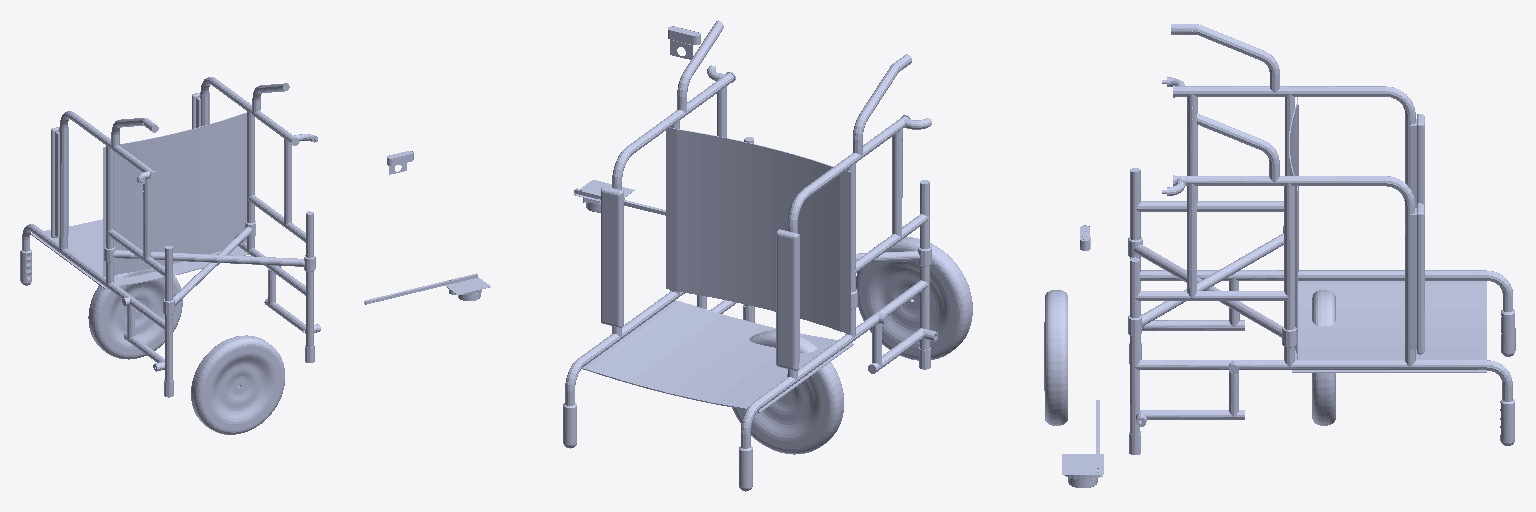
The robot description file, URDF, robot "wheelchair":
<?xml version="1.0" encoding="utf-8"?>

<robot name="wheelchair">

  <!-- Your robot description here -->
  <link name="base_link">
    <!-- Define your link properties -->
    <visual>
      <!-- Define visual properties -->
      <origin xyz="0 0 0" rpy="0 0 0"/> <!-- This is the original position and orientation -->
      <!-- Other visual properties -->
    </visual>
  </link>


  <link name="chassis">
    <inertial>
      <origin xyz="-0.14238 0.06173 -0.10504" rpy="0 0 0" />
      <mass value="9.6593" />
      <inertia ixx="0.35079" ixy="-0.0041582" ixz="4.762E-05" iyy="0.30855" iyz="-1.6408E-05" izz="0.56011" />
    </inertial>
    <visual>
      <origin xyz="0 0 0" rpy="0 0 0" />
      <geometry>
        <mesh filename="package://wheelchair_description/meshes/base_link.STL" />
      </geometry>
      <material name="">
        <color rgba="0.79216 0.81961 0.93333 1" />
      </material>
    </visual>
    <collision>
      <origin xyz="0 0 0" rpy="0 0 0" />
      <geometry>
        <mesh filename="package://wheelchair_description/meshes/base_link.STL" />
      </geometry>
    </collision>
  </link>

  <joint name="connector" type="fixed">
    <!-- Define your joint properties -->
    <origin xyz="0 0 0" rpy="1.57 0 3.14"/> <!-- This is the original position and orientation of the joint -->
    <!-- Other joint properties -->
    <parent link="base_link"/>
    <child link="chassis"/>
  </joint>

  <link name="left_wheel">
    <inertial>
      <origin xyz="5.5511E-16 -1.9429E-16 -0.016" rpy="0 0 0" />
      <mass value="3.5068" />
      <inertia ixx="0.025596" ixy="-1.1778E-18" ixz="-1.814E-19" iyy="0.025596" iyz="7.7958E-19" izz="0.049823" />
    </inertial>
    <visual>
      <origin xyz="0 0 0" rpy="0 0 0" />
      <geometry>
        <mesh filename="package://wheelchair_description/meshes/left_wheel.STL" />
      </geometry>
      <material name="">
        <color rgba="0.79216 0.81961 0.93333 1" />
      </material>
    </visual>
    <collision>
      <origin xyz="0 0 0" rpy="0 0 0" />
      <geometry>
        <mesh filename="package://wheelchair_description/meshes/left_wheel.STL" />
      </geometry>
    </collision>
  </link>

  <joint name="wheel1" type="continuous">
    <origin xyz="0.21536 -0.23488 0.21222" rpy="0 0 0" />
    <parent link="chassis" />
    <child link="left_wheel" />
    <axis xyz="0 0 1" />
  </joint>

  <link name="right_wheel">
    <inertial>
      <origin xyz="-4.4409E-16 8.3267E-17 -0.016" rpy="0 0 0" />
      <mass value="3.5068" />
      <inertia ixx="0.025596" ixy="1.7094E-18" ixz="3.1551E-19" iyy="0.025596" iyz="3.173E-19" izz="0.049823" />
    </inertial>
    <visual>
      <origin xyz="0 0 0" rpy="0 0 0" />
      <geometry>
        <mesh filename="package://wheelchair_description/meshes/right_wheel.STL" />
      </geometry>
      <material name="">
        <color rgba="0.79216 0.81961 0.93333 1" />
      </material>
    </visual>
    <collision>
      <origin xyz="0 0 0" rpy="0 0 0" />
      <geometry>
        <mesh filename="package://wheelchair_description/meshes/right_wheel.STL" />
      </geometry>
    </collision>
  </link>

  <joint name="wheel2" type="continuous">
    <origin xyz="0.21536 -0.23488 -0.41978" rpy="3.1416 0 3.1416" />
    <parent link="chassis" />
    <child link="right_wheel" />
    <axis xyz="0 0 -1" />
  </joint>

  <link name="depth_camera">
    <inertial>
      <origin xyz="5.1164E-06 -0.012641 0.031883" rpy="0 0 0" />
      <mass value="0.053869" />
      <inertia ixx="5.7339E-06" ixy="2.8393E-11" ixz="5.9589E-09" iyy="3.5154E-05" iyz="1.7675E-07" izz="3.4905E-05" />
    </inertial>
    <visual>
      <origin xyz="0 0 0" rpy="0 0 0" />
      <geometry>
        <mesh filename="package://wheelchair_description/meshes/depth_camera.STL" />
      </geometry>
      <material name="">
        <color rgba="0.79216 0.81961 0.93333 1" />
      </material>
    </visual>
    <collision>
      <origin xyz="0 0 0" rpy="0 0 0" />
      <geometry>
        <mesh filename="package://wheelchair_description/meshes/depth_camera.STL" />
      </geometry>
    </collision>
  </link>

  <joint name="camera" type="fixed">
    <origin xyz="-0.39931 0.33074 -0.35378" rpy="1.5708 0 -3.1416" />
    <parent link="chassis" />
    <child link="depth_camera" />
    <axis xyz="0 0 0" />
  </joint>

  <link name="lidar">
    <inertial>
      <origin xyz="-0.0031142 0.017894 -0.0072225" rpy="0 0 0" />
      <mass value="0.13016" />
      <inertia ixx="0.00054372" ixy="6.6921E-05" ixz="-1.1138E-05" iyy="8.3702E-05" iyz="5.9592E-05" izz="0.00057444" />
    </inertial>
    <visual>
      <origin xyz="0 0 0" rpy="0 0 0" />
      <geometry>
        <mesh filename="package://wheelchair_description/meshes/lidar.STL" />
      </geometry>
      <material name="">
        <color rgba="0.79216 0.81961 0.93333 1" />
      </material>
    </visual>
    <collision>
      <origin xyz="0 0 0" rpy="0 0 0" />
      <geometry>
        <mesh filename="package://wheelchair_description/meshes/lidar.STL" />
      </geometry>
    </collision>
  </link>

  <joint name="lidar_joint" type="fixed">
    <origin xyz="-0.64132 -0.14701 -0.37178" rpy="1.5714 1.5708 0" />
    <parent link="chassis" />
    <child link="lidar" />
    <axis xyz="0 0 0" />
  </joint>

  <!-- Camera plugin -->
<gazebo reference="depth_camera">
  <sensor name="kinect_camera" type="depth">
    <update_rate>20</update_rate>
    <camera>
      <horizontal_fov>1.047198</horizontal_fov>
      <image>
        <width>1920</width>
        <height>1080</height>
        <format>R8G8B8</format>
      </image>
      <clip>
        <near>0.05</near>
        <far>30</far>
      </clip>
    </camera>
    <plugin name="kinect_controller" filename="libgazebo_ros_openni_kinect.so">
      <baseline>0.2</baseline>
      <alwaysOn>true</alwaysOn>
      <updateRate>1.0</updateRate>
      <cameraName>camera_ir</cameraName>
      <imageTopicName>/camera/color/image_raw</imageTopicName>
      <cameraInfoTopicName>/camera/color/camera_info</cameraInfoTopicName>
      <depthImageTopicName>/camera/depth/image_raw</depthImageTopicName>
      <depthImageInfoTopicName>/camera/depth/camera_info</depthImageInfoTopicName>
      <pointCloudTopicName>/camera/depth/color/points</pointCloudTopicName>
      <frameName>depth_camera</frameName>
      <pointCloudCutoff>0.5</pointCloudCutoff>
      <pointCloudCutoffMax>3.0</pointCloudCutoffMax>
      <distortionK1>0.00000001</distortionK1>
      <distortionK2>0.00000001</distortionK2>
      <distortionK3>0.00000001</distortionK3>
      <distortionT1>0.00000001</distortionT1>
      <distortionT2>0.00000001</distortionT2>
      <CxPrime>0</CxPrime>
      <Cx>0</Cx>
      <Cy>0</Cy>
      <focalLength>0</focalLength>
      <hackBaseline>0</hackBaseline>
    </plugin>
  </sensor>
</gazebo>

 <gazebo reference="lidar">
    <sensor name="head_hokuyo_sensor" type="ray">
      <pose>0 0 0 0 0 0</pose>
      <visualize>true</visualize>
      <update_rate>40</update_rate>
      <ray>
        <scan>
          <horizontal>
            <samples>720</samples>
            <resolution>1</resolution>
            <min_angle>-3.14</min_angle>
            <max_angle>3.14</max_angle>
          </horizontal>
        </scan>
        <range>
          <min>0.2</min>
          <max>10.1</max>
          <resolution>0.01</resolution>
        </range>
        <noise>
          <type>gaussian</type>
          <mean>0.0</mean>
          <stddev>0.02</stddev>
        </noise>
      </ray>
      <plugin filename="libgazebo_ros_laser.so" name="gazebo_ros_head_hokuyo_controller">
        <topicName>scan</topicName>
        <frameName>lidar</frameName>
      </plugin>
    </sensor>
  </gazebo>

  <gazebo>
    <plugin filename="libgazebo_ros_diff_drive.so" name="differential_drive_controller">
      <alwaysOn>true</alwaysOn>
      <updateRate>50</updateRate>
      <leftJoint>wheel1</leftJoint>
      <rightJoint>wheel2</rightJoint>
      <wheelSeparation>0.643</wheelSeparation>
      <wheelDiameter>0.33</wheelDiameter>
      <torque>20</torque>
      <commandTopic>cmd_vel</commandTopic>
      <odometryTopic>odom_temp</odometryTopic>
      <odometryFrame>odom_temp</odometryFrame>
      <robotBaseFrame>base_footprint</robotBaseFrame>
      <publishTf>0</publishTf>
    </plugin>
  </gazebo>

</robot>

--- What the picture shows (computed from the rendered views, not written in the file) ---
Views: 3 orthographic renders of the robot side by side, from view 1: azimuth 30°, elevation 25°; view 2: azimuth 150°, elevation 25°; view 3: azimuth 270°, elevation 25°.
Robot: wheelchair — 6 links, 5 joints (2 continuous, 3 fixed); root link base_link; default pose: every joint at zero.
Links seen in each view (by area): view 1: chassis, right_wheel, left_wheel, lidar; view 2: chassis, right_wheel, left_wheel, lidar, depth_camera; view 3: chassis, right_wheel, left_wheel, lidar.
Boxes of the visible links, x1,y1,x2,y2 form: chassis: [20, 77, 320, 397]; right_wheel: [191, 335, 284, 434]; left_wheel: [88, 268, 182, 359]; lidar: [364, 273, 490, 304]; chassis: [563, 20, 937, 491]; right_wheel: [856, 237, 972, 360]; left_wheel: [732, 330, 843, 454]; lidar: [573, 180, 665, 215]; depth_camera: [668, 26, 700, 59]; chassis: [1128, 24, 1515, 454]; right_wheel: [1044, 290, 1067, 425]; left_wheel: [1312, 290, 1335, 425]; lidar: [1062, 400, 1103, 487].
Size in the robot's own frame: 1.11 by 1.11 by 0.9657 metres.
Meshes: 5 distinct files referenced, 5 mesh visuals loaded (5 binary STL).
